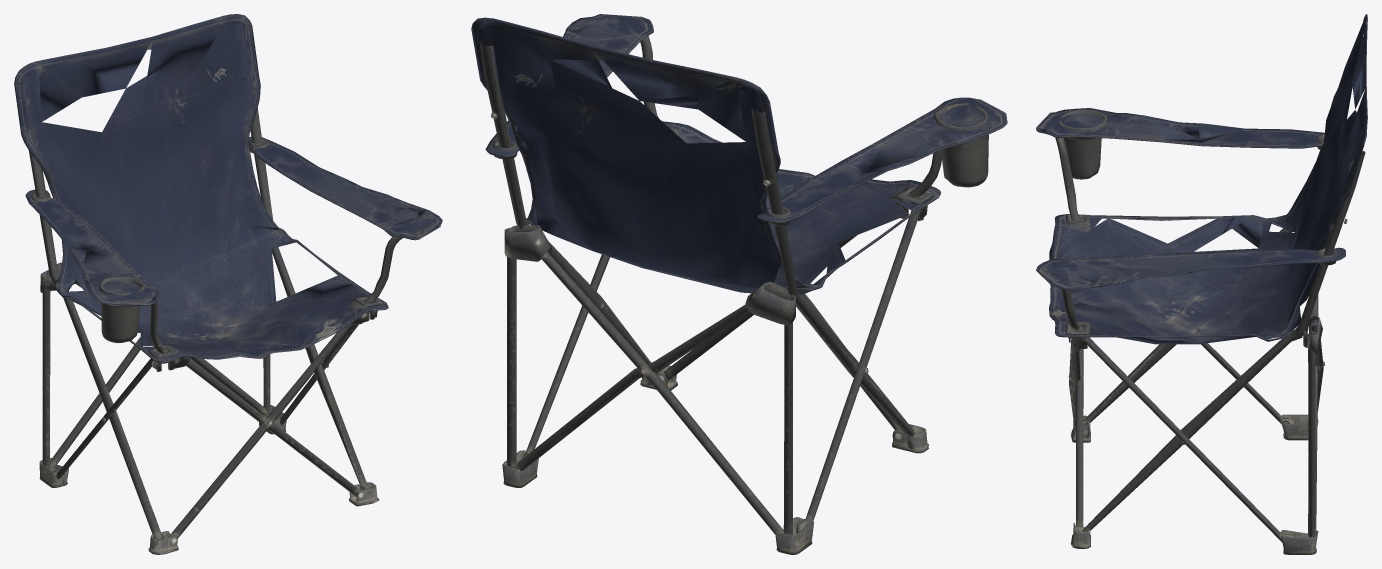
The model's file is skyways-d-of-campchair.glb.
3 views of the same model, side by side, from view 1: azimuth 30°, elevation 25°; view 2: azimuth 150°, elevation 25°; view 3: azimuth 270°, elevation 25° (orthographic). The views are drawn at different scales.
Parts seen in each view (by area): view 1: skyways-d-of-campchair; view 2: skyways-d-of-campchair; view 3: skyways-d-of-campchair.
Part boxes in pixels (<box>): skyways-d-of-campchair: <box>14,14,442,554</box>; skyways-d-of-campchair: <box>471,14,1007,554</box>; skyways-d-of-campchair: <box>1036,14,1367,554</box>.
Size of the model in its own units: 0.8215 by 0.9 by 0.6377.
Materials: 1 (1 with a texture image).
